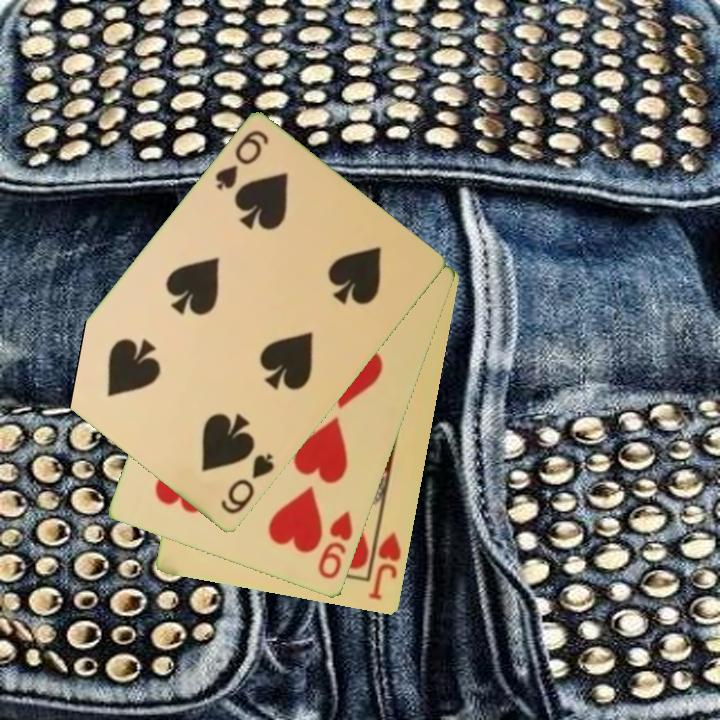6s: (217, 450, 278, 518), (211, 127, 272, 194)
9h: (315, 507, 356, 583)
Jh: (365, 518, 405, 603)
